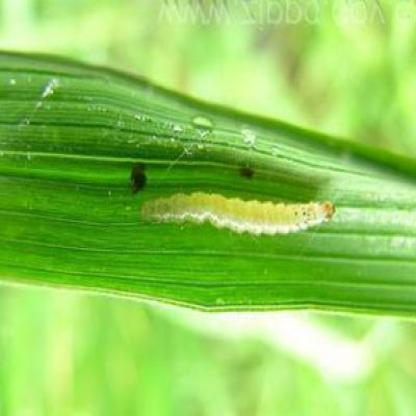leaf-folder: (132, 159, 344, 264)
